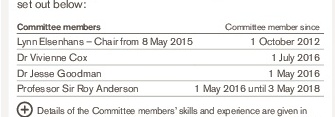table: (0, 0, 335, 117)
